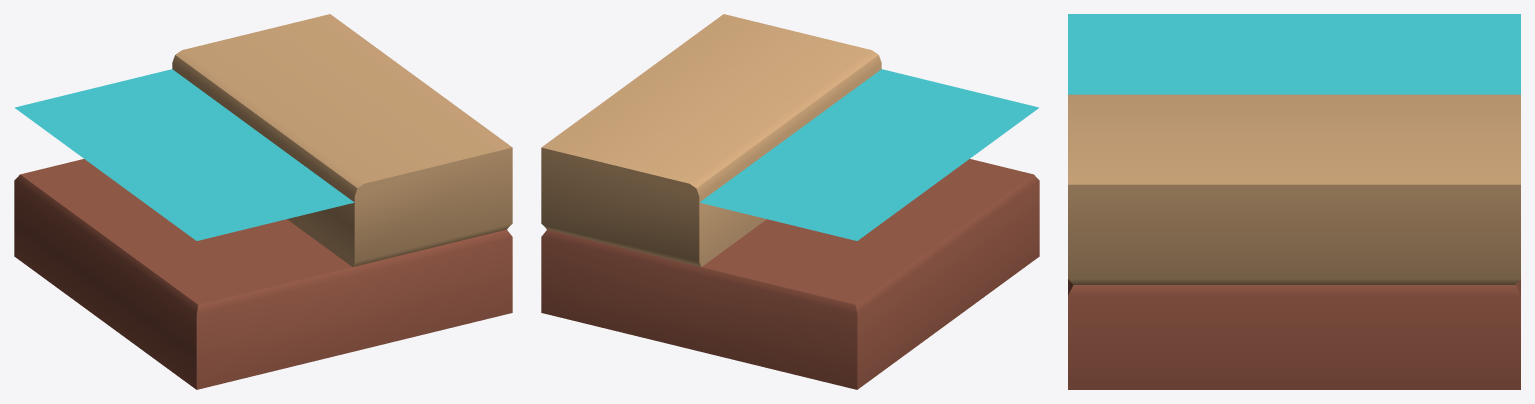
Rendered from square_sand_waterStraight_noSides.glb.
The picture shows the model from 3 angles, left to right: view 1: azimuth 30°, elevation 25°; view 2: azimuth 150°, elevation 25°; view 3: azimuth 270°, elevation 25°; orthographic projection. The views are drawn at different scales.
Visible parts, largest first — view 1: square_sand_waterStraight_noSides; view 2: square_sand_waterStraight_noSides; view 3: square_sand_waterStraight_noSides.
Boxes of the visible parts, x1,y1,x2,y2 form: square_sand_waterStraight_noSides: [14, 14, 512, 389]; square_sand_waterStraight_noSides: [541, 14, 1039, 389]; square_sand_waterStraight_noSides: [1068, 14, 1520, 389].
Bounding box in the file's own units: 2 × 1 × 2.
